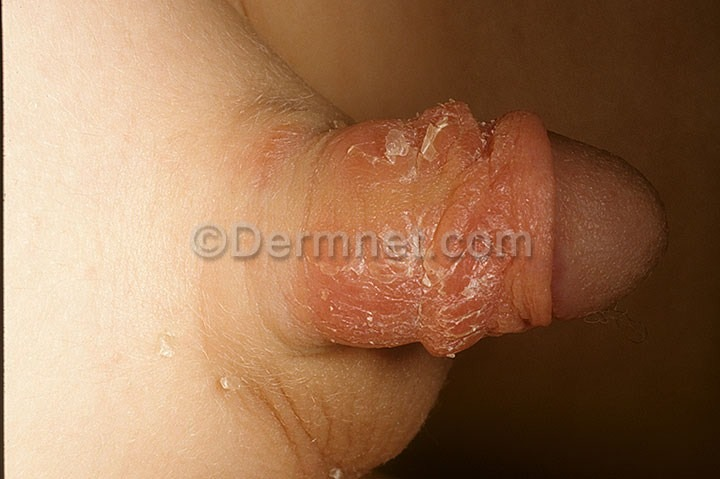Psoriasis: (352, 114, 507, 349)
